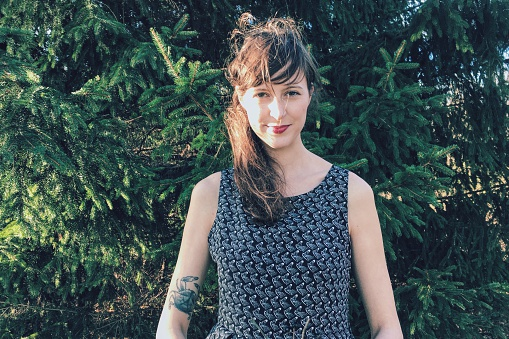em pe: (162, 26, 395, 339)
